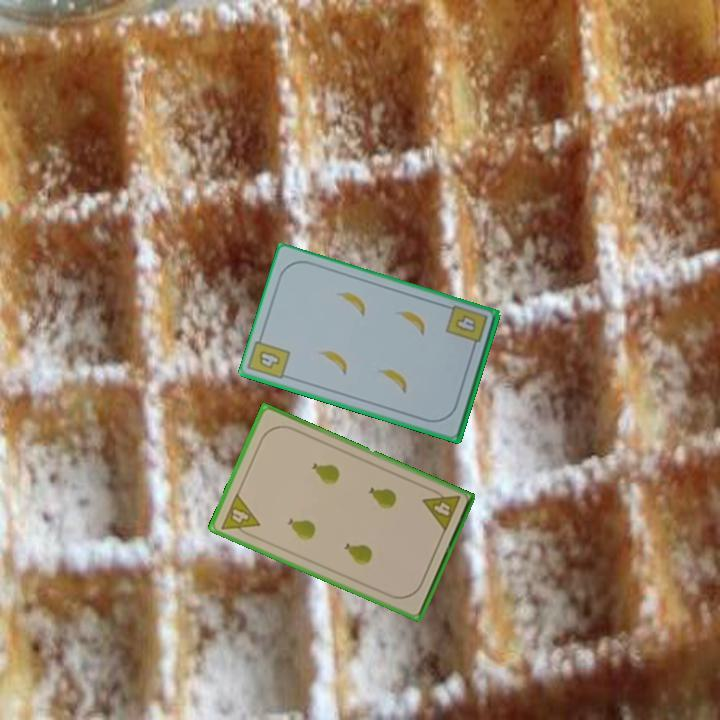4b: (443, 302, 490, 354), (255, 347, 283, 372)
4p: (217, 490, 263, 541), (419, 484, 463, 535)
